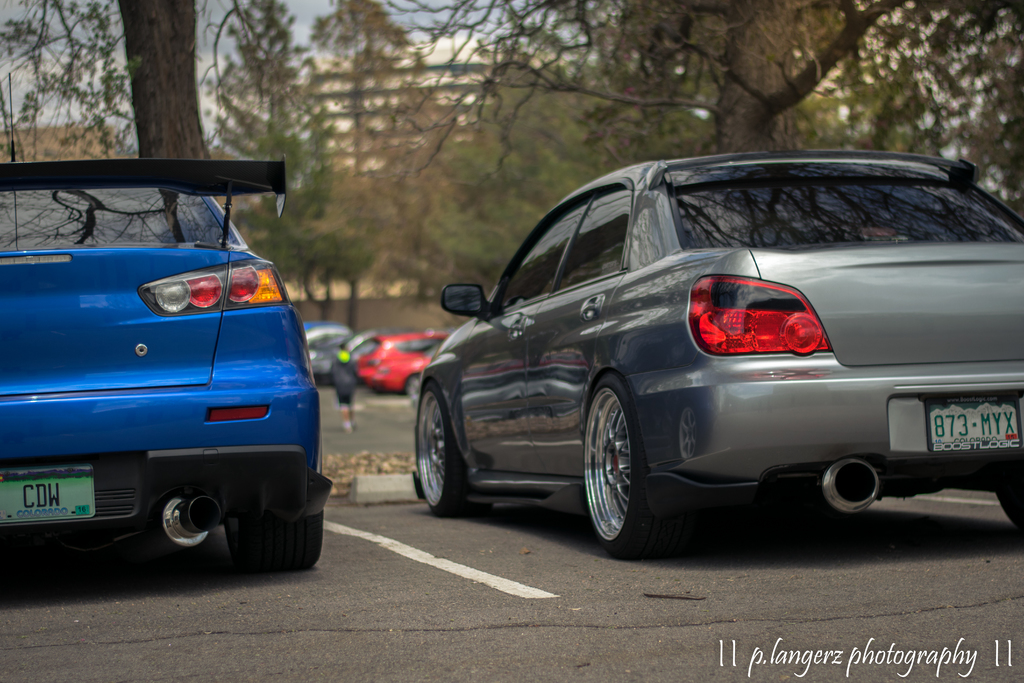license plate: (2, 470, 97, 520), (931, 397, 1020, 449)
